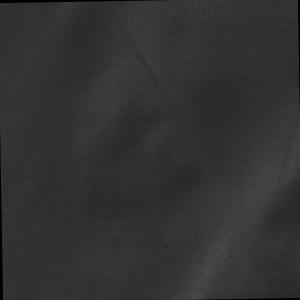Wrinkle: (180, 137, 300, 300), (94, 1, 198, 130)
